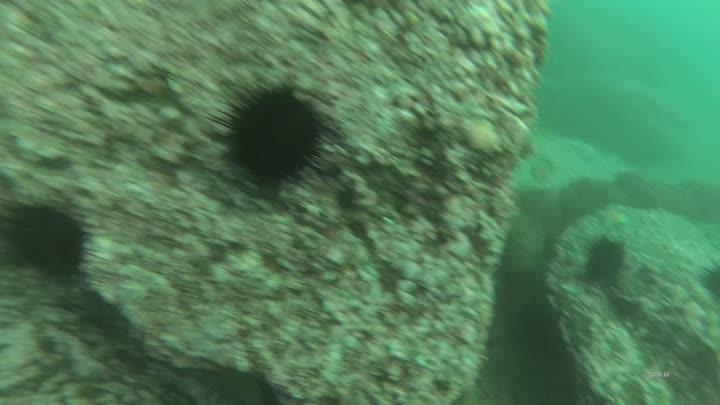urchin: (202, 70, 334, 190), (14, 201, 86, 276), (583, 233, 630, 286)
